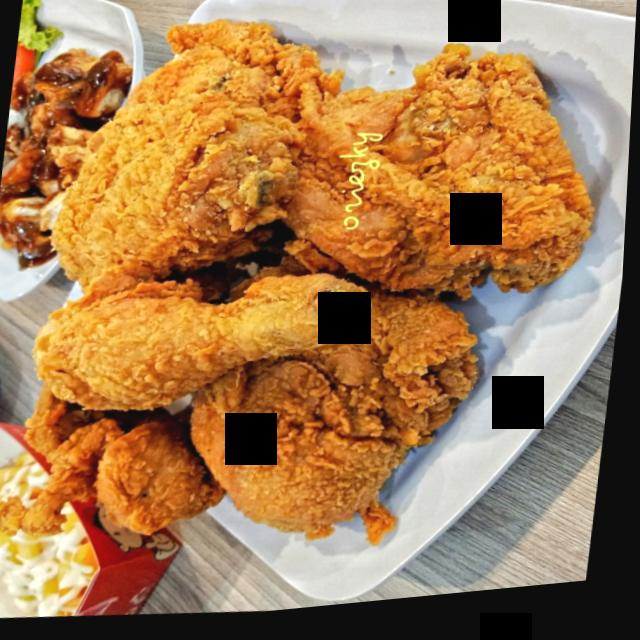Frango: (25, 242, 381, 437), (46, 36, 310, 296)
